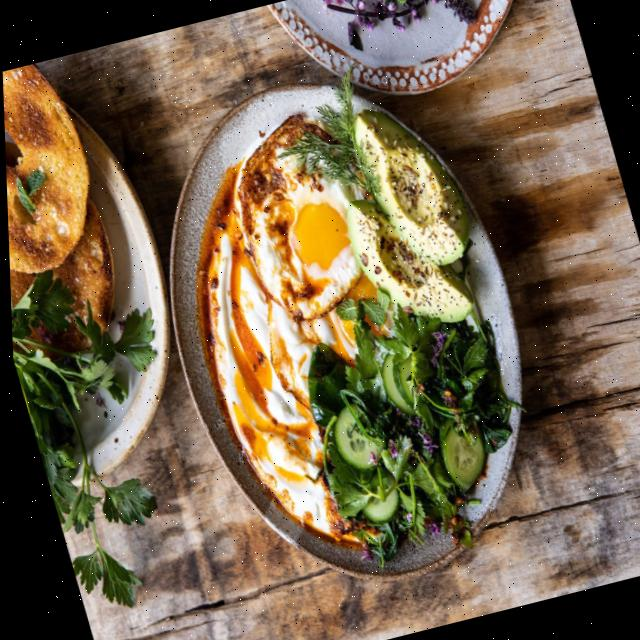Bagel: (2, 63, 87, 272)
Egg: (235, 113, 359, 319)
